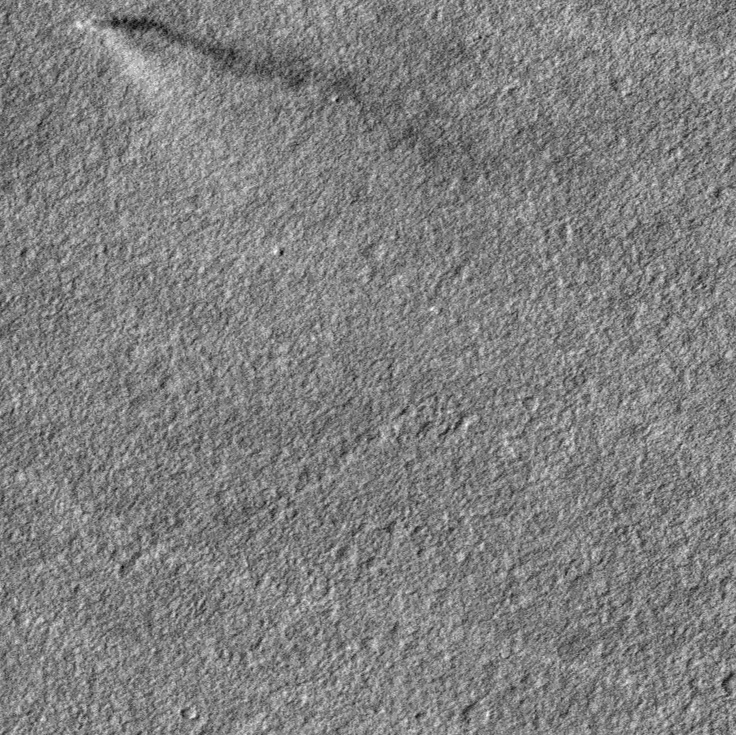dust_devil: (72, 11, 364, 114)
